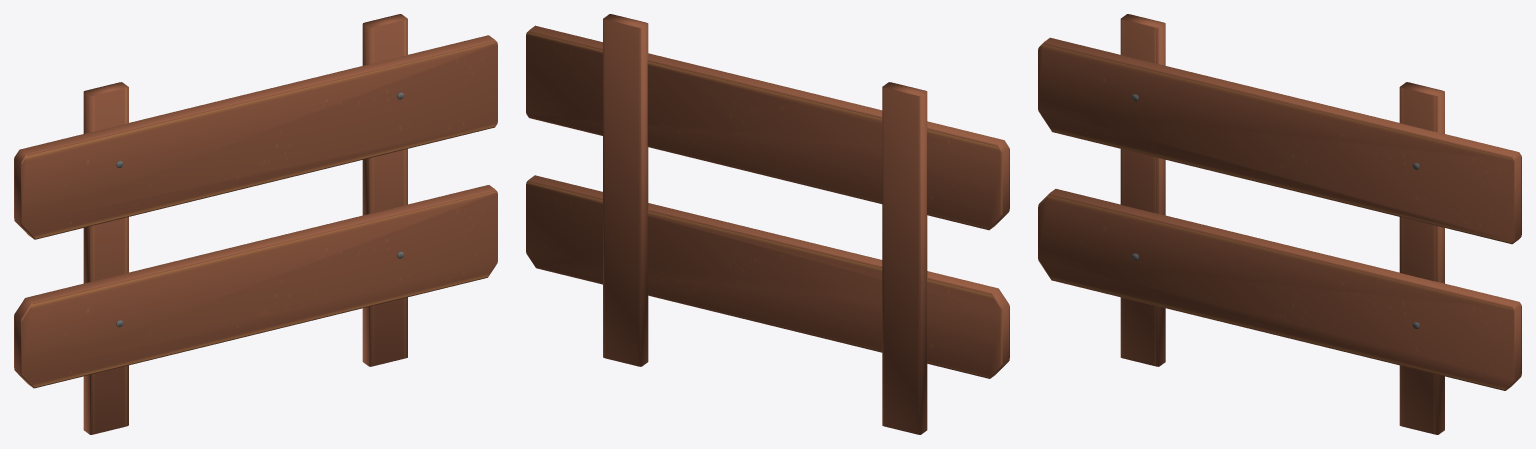
File: pagar_1.fbx
The picture shows the model from 3 angles, left to right: view 1: azimuth 30°, elevation 25°; view 2: azimuth 150°, elevation 25°; view 3: azimuth 330°, elevation 25°; orthographic projection.
Visible parts, largest first — view 1: pagatr_1; view 2: pagatr_1; view 3: pagatr_1.
Boxes of the visible parts, <box> form: pagatr_1: <box>14,14,497,434</box>; pagatr_1: <box>526,14,1009,434</box>; pagatr_1: <box>1038,14,1521,434</box>.
Bounding box in the file's own units: 522 × 354 × 28.02.
